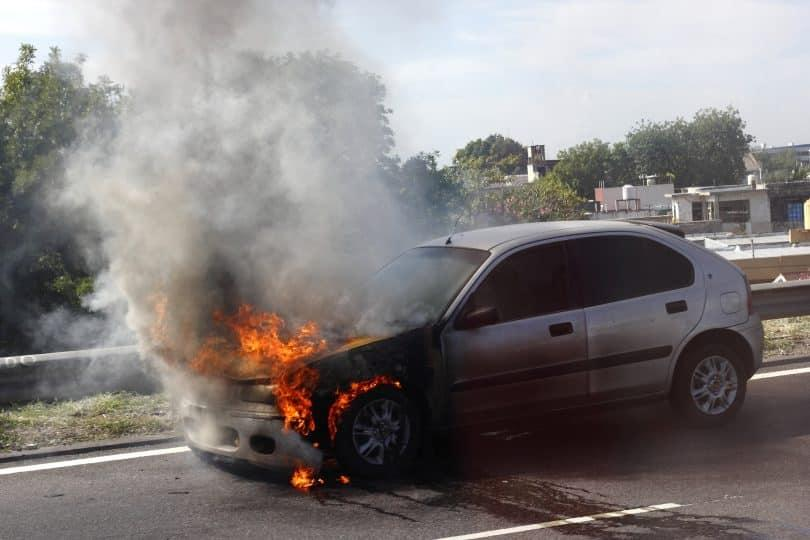fire: (208, 309, 324, 435), (327, 376, 400, 439), (152, 293, 205, 370), (291, 465, 323, 488)
smoke: (42, 0, 436, 331), (34, 331, 188, 404), (0, 212, 41, 327), (190, 379, 227, 446)
